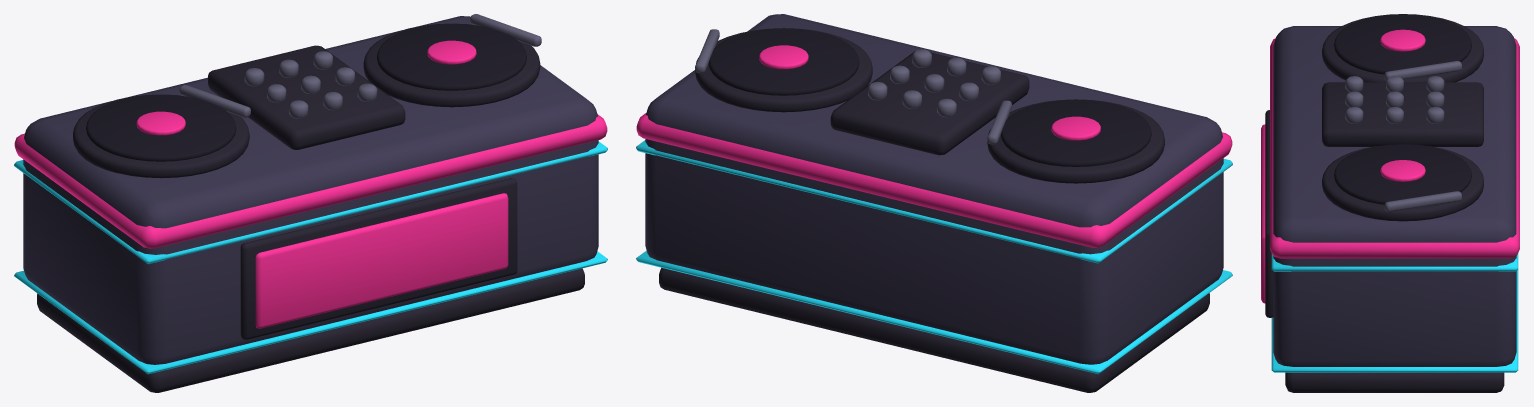
Rendered from DJBooth.fbx.
3 views of the same model, side by side, from view 1: azimuth 30°, elevation 25°; view 2: azimuth 150°, elevation 25°; view 3: azimuth 270°, elevation 25° (orthographic). The views are drawn at different scales.
Parts seen in each view (by area): view 1: Body, Dark, Neon_Magenta, Cone, Neon_Cyan, Metal; view 2: Body, Dark, Cone, Neon_Magenta, Neon_Cyan, Metal; view 3: Body, Dark, Cone, Neon_Magenta, Metal, Neon_Cyan.
Boxes of the visible parts, x1=… form: Body: x1=23, y1=16, x2=598, y2=364; Dark: x1=37, y1=23, x2=584, y2=392; Neon_Magenta: x1=14, y1=40, x2=607, y2=328; Cone: x1=86, y1=23, x2=526, y2=161; Neon_Cyan: x1=14, y1=141, x2=607, y2=374; Metal: x1=179, y1=14, x2=541, y2=118; Body: x1=645, y1=14, x2=1223, y2=364; Dark: x1=659, y1=28, x2=1209, y2=392; Cone: x1=708, y1=28, x2=1151, y2=166; Neon_Magenta: x1=636, y1=45, x2=1232, y2=247; Neon_Cyan: x1=636, y1=140, x2=1232, y2=374; Metal: x1=695, y1=29, x2=1011, y2=144; Body: x1=1273, y1=26, x2=1516, y2=366; Dark: x1=1265, y1=14, x2=1504, y2=392; Cone: x1=1334, y1=14, x2=1471, y2=204; Neon_Magenta: x1=1261, y1=29, x2=1519, y2=303; Metal: x1=1345, y1=61, x2=1461, y2=211; Neon_Cyan: x1=1271, y1=253, x2=1518, y2=372.
Bounding box in the file's own units: 6.69 × 3.06 × 3.51.
